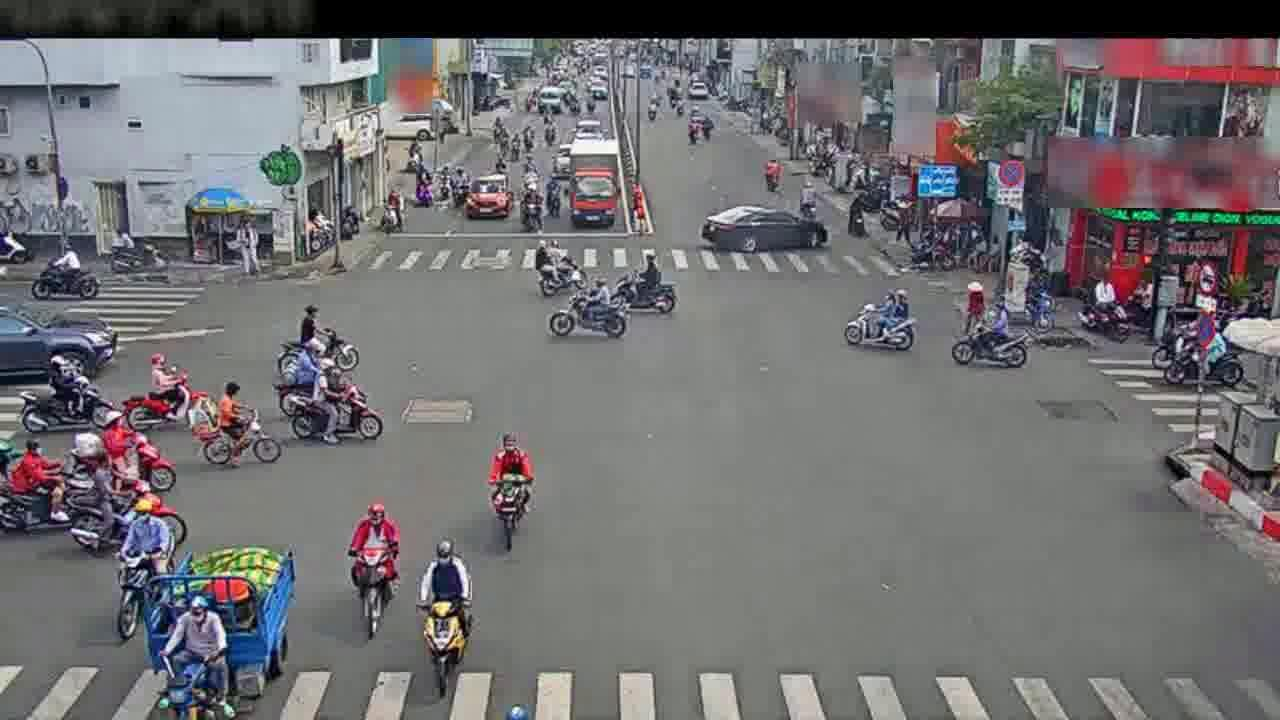8: (563, 138, 620, 227)
container: (0, 301, 129, 367), (703, 204, 822, 256), (473, 174, 513, 220)
motorbike: (106, 499, 182, 629), (285, 361, 385, 447), (347, 494, 400, 638), (191, 381, 272, 471), (420, 542, 469, 686), (0, 445, 73, 540), (104, 419, 182, 507), (32, 354, 113, 431), (485, 434, 534, 551), (554, 272, 635, 340), (129, 356, 201, 432), (846, 280, 917, 354), (954, 300, 1029, 370), (1146, 319, 1223, 386), (610, 253, 678, 315), (32, 244, 97, 306), (296, 301, 352, 367), (530, 241, 579, 302), (1018, 282, 1065, 345), (797, 199, 830, 246), (843, 188, 871, 243), (519, 179, 546, 232), (381, 186, 404, 240), (760, 151, 783, 197), (411, 164, 433, 210), (443, 163, 464, 208)
